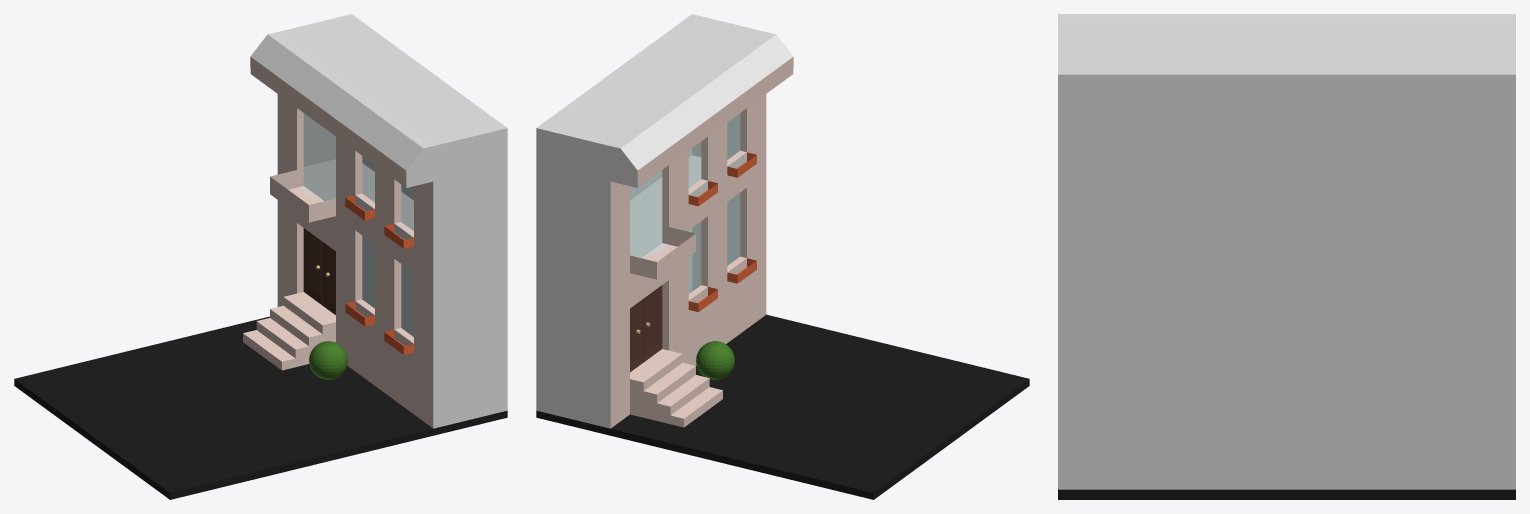
The model's file is Greenwich_test2.glb.
The picture shows the model from 3 angles, left to right: view 1: azimuth 30°, elevation 25°; view 2: azimuth 150°, elevation 25°; view 3: azimuth 270°, elevation 25°; orthographic projection. The views are drawn at different scales.
Parts seen in each view (by area): view 1: Cube, Ground, Shrub; view 2: Cube, Ground, Shrub; view 3: Cube, Ground.
Boxes of the visible parts, bbox=[...] form: Cube: bbox=[243, 14, 507, 428]; Ground: bbox=[14, 316, 507, 499]; Shrub: bbox=[309, 341, 347, 379]; Cube: bbox=[536, 14, 793, 428]; Ground: bbox=[536, 314, 1029, 499]; Shrub: bbox=[696, 341, 734, 379]; Cube: bbox=[1058, 14, 1515, 489]; Ground: bbox=[1058, 489, 1515, 499].
Bounding box in the file's own units: 10 × 8.21 × 8.
